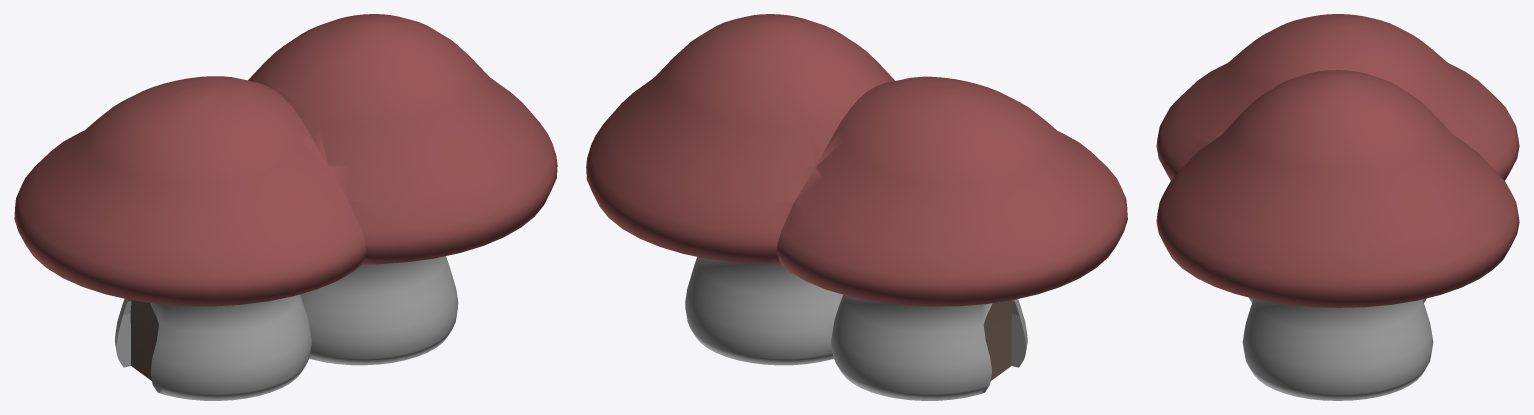
The model's file is HongoDoble1_Mod.fbx.
3 views of the same model, side by side, from view 1: azimuth 30°, elevation 25°; view 2: azimuth 150°, elevation 25°; view 3: azimuth 270°, elevation 25° (orthographic). The views are drawn at different scales.
Visible parts, largest first — view 1: HongoDoble1_Mod; view 2: HongoDoble1_Mod; view 3: HongoDoble1_Mod.
Part boxes in pixels (x1,y1,x2,y2): HongoDoble1_Mod: (14,14,557,400); HongoDoble1_Mod: (586,14,1127,400); HongoDoble1_Mod: (1156,14,1519,400).
Size of the model in its own units: 1482 by 860 by 985.
